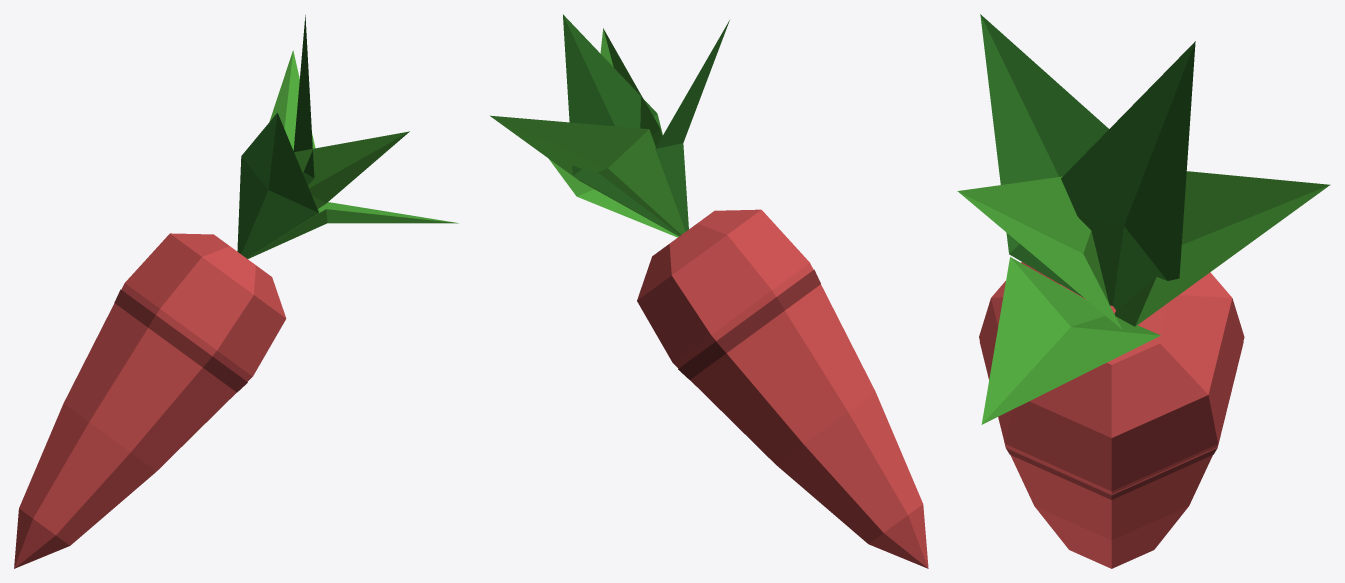
The model's file is carrot.glb.
3 views of the same model, side by side, from view 1: azimuth 30°, elevation 25°; view 2: azimuth 150°, elevation 25°; view 3: azimuth 270°, elevation 25° (orthographic). The views are drawn at different scales.
Visible parts, largest first — view 1: carrot; view 2: carrot; view 3: carrot.
Part boxes in pixels (left/top/right/bottom): carrot: left=14, top=15, right=458, bottom=568; carrot: left=490, top=14, right=928, bottom=568; carrot: left=957, top=14, right=1330, bottom=568.
Size of the model in its own units: 0.3181 by 0.3423 by 0.1508.
